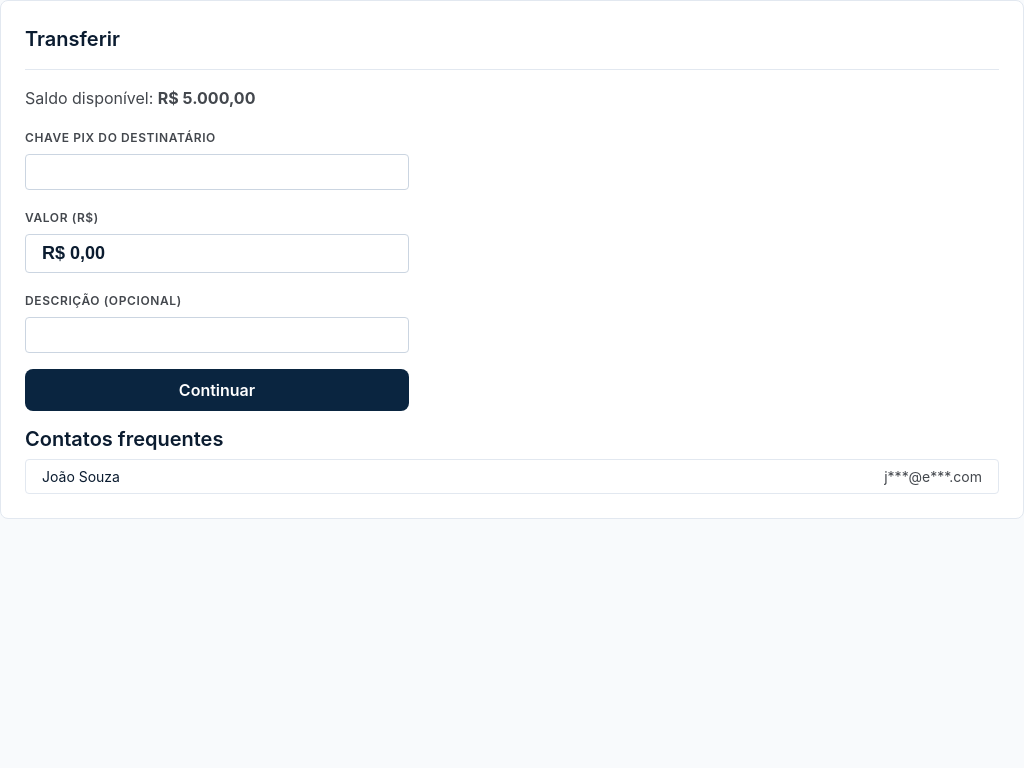
Scenario: TransferirView (T01) › selecionar um contato frequente preenche o destinatário sem criar a intenção
This screenshot has width=1024, height=768.
Click the button with class "transferir-view__frequent-item" at (81, 476), box [25, 459, 999, 494]
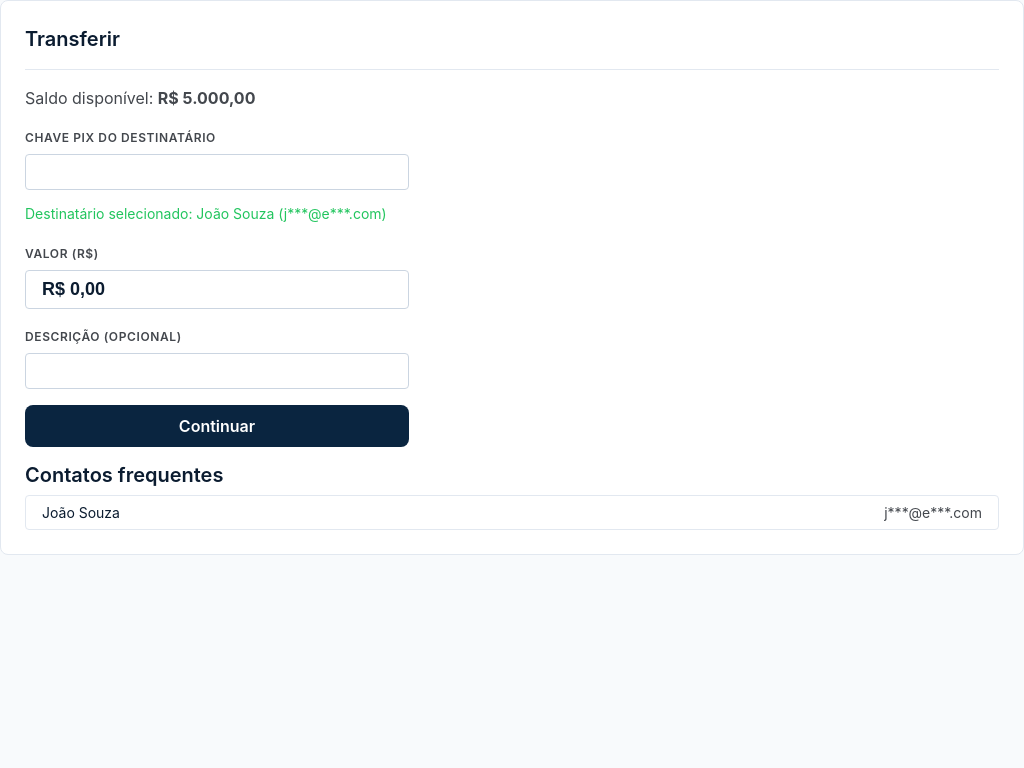
expect the text "Destinatário selecionado" is shown: met, box [25, 205, 387, 222]
